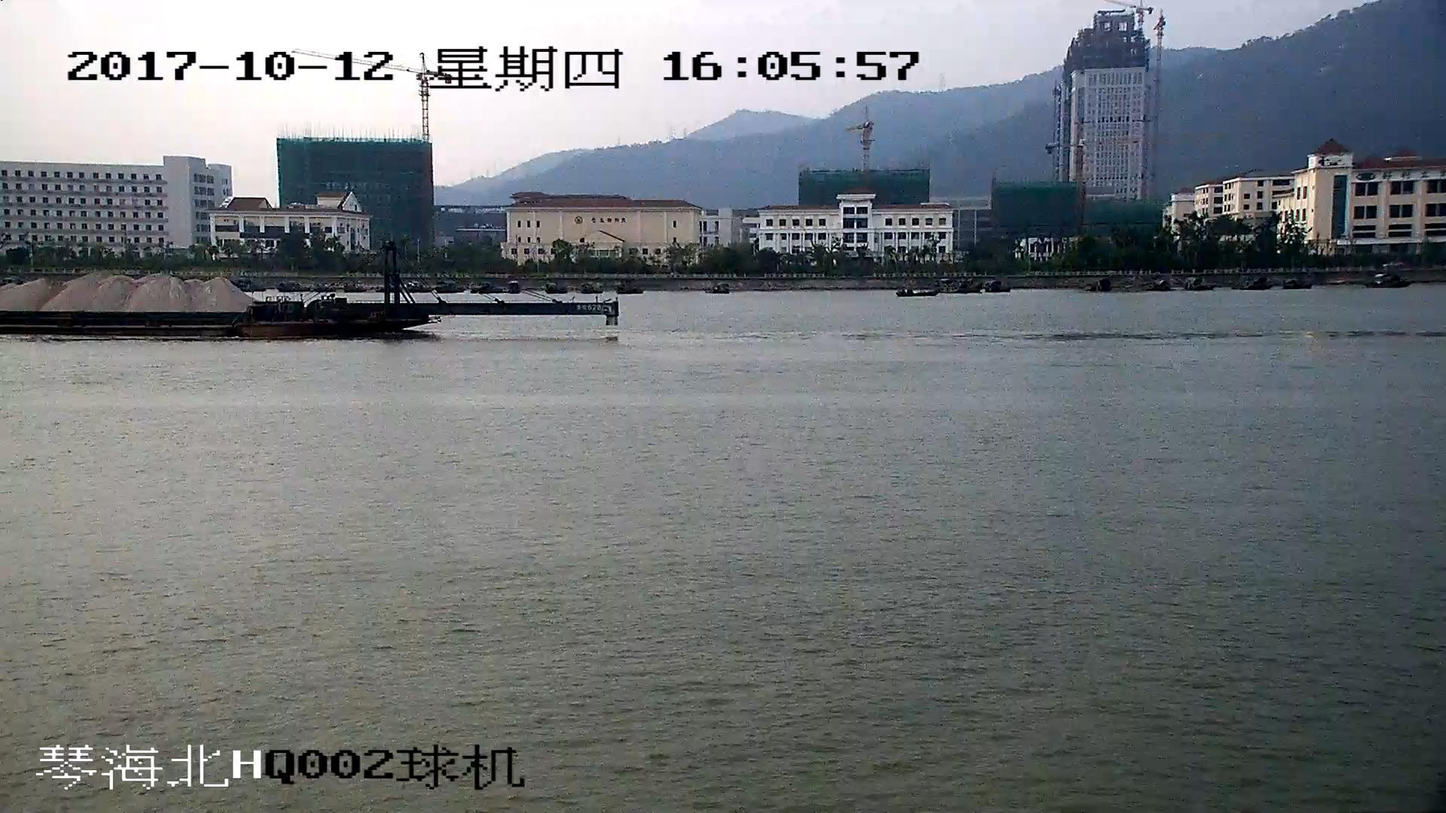ore carrier: (0, 248, 615, 342)
